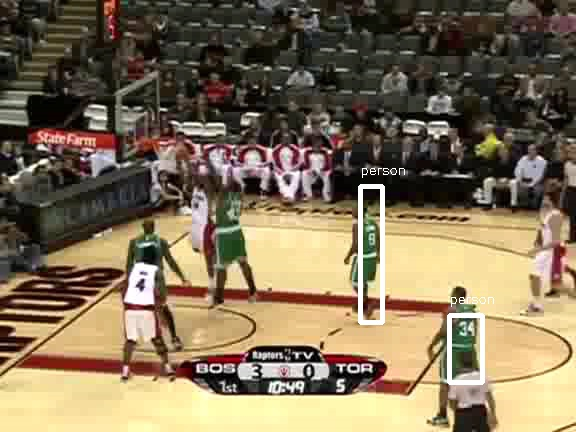person: (353, 213, 387, 294), (352, 213, 386, 294), (354, 213, 388, 294), (353, 212, 387, 293), (353, 214, 387, 295)
target_negative: (433, 17, 570, 85), (465, 41, 491, 308), (186, 418, 550, 428), (286, 377, 520, 385), (506, 97, 528, 169), (19, 225, 106, 229)
